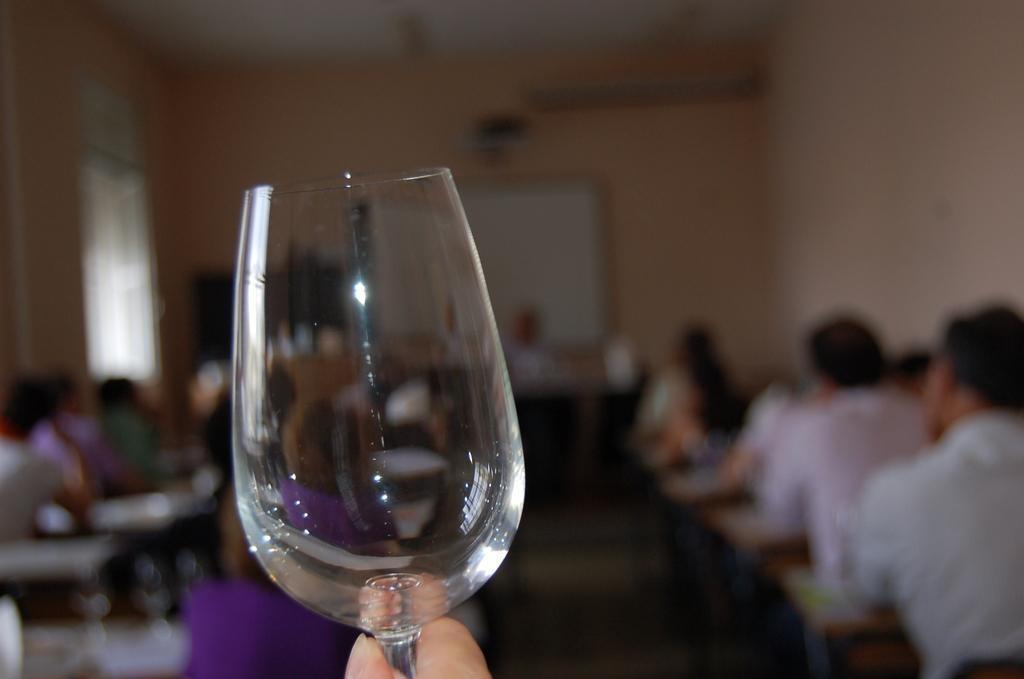glass-wine: (218, 165, 540, 678)
